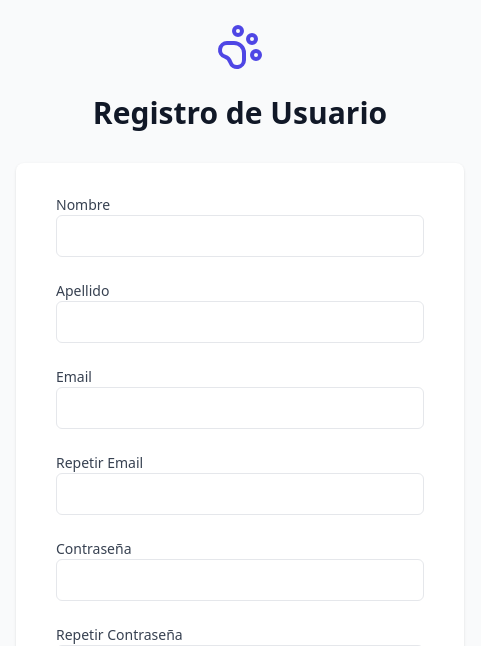
Scenario: RegisterForm › Validaciones de formulario › debe mostrar error cuando los emails no coinciden
Type "test@example.com" into the field labelled "Email" at (240, 408), box [56, 387, 424, 429]
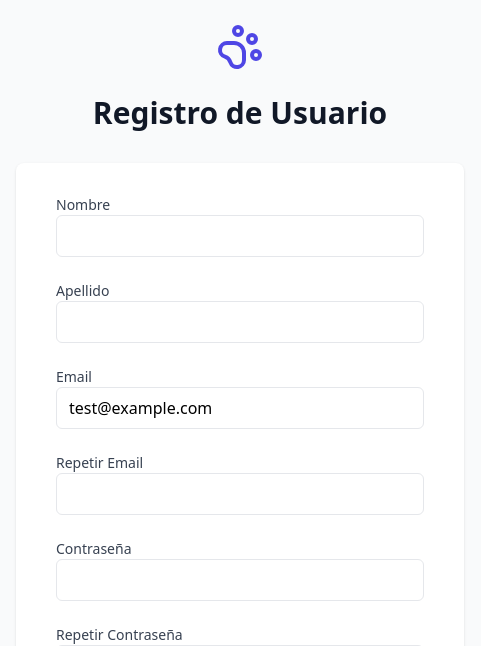
Type "different@example.com" into the field labelled "Repetir Email" at (240, 494), box [56, 473, 424, 515]
(page scrolled)
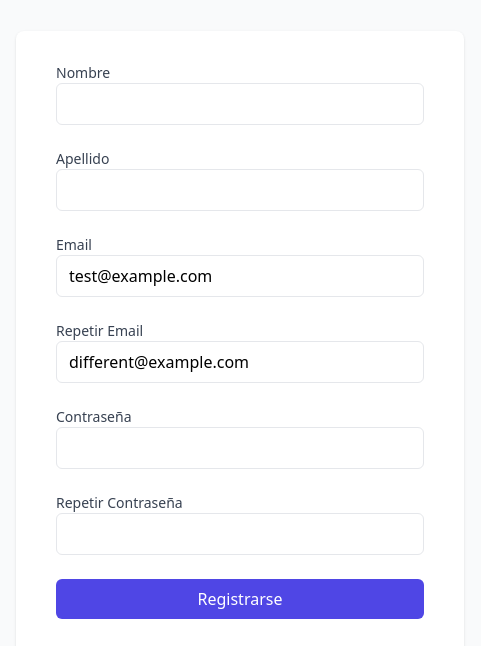
Click the button "Registrarse" at (240, 599), box [56, 579, 424, 619]
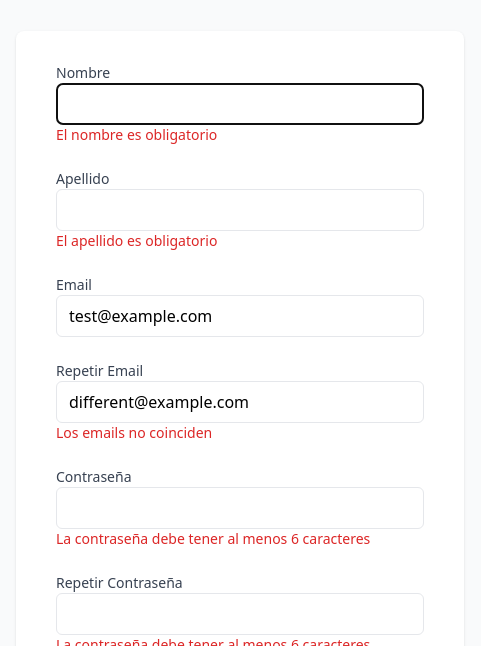
expect the text "Los emails no coinciden" is shown: met, box [56, 423, 212, 442]
